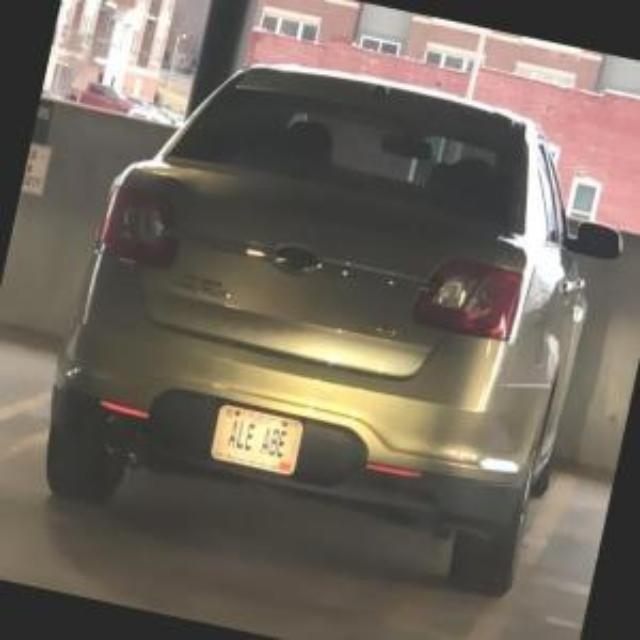License Plate: (209, 403, 305, 475)
